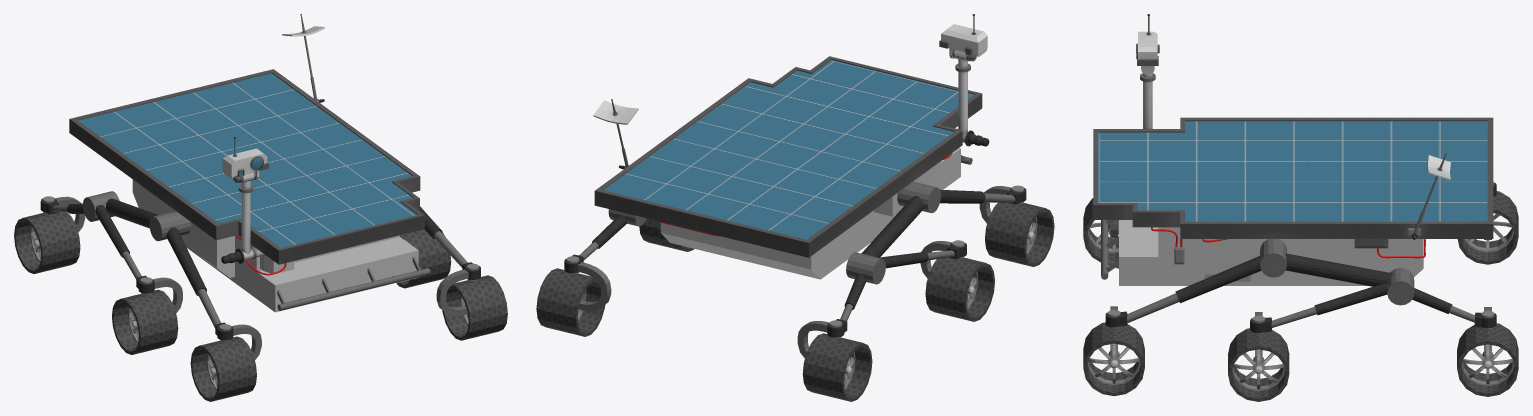
File: mars_rover_low_poly_rover.glb
3 views of the same model, side by side, from view 1: azimuth 30°, elevation 25°; view 2: azimuth 150°, elevation 25°; view 3: azimuth 270°, elevation 25° (orthographic). The views are drawn at different scales.
Visible parts, largest first — view 1: Cube.007, Cube.006, Cylinder.021, Cylinder.022, Cylinder.023, Cylinder.012, Cylinder.007, Cylinder.011, Cube.008, Cylinder.029, Cylinder.024, Cylinder.014 (+5 smaller); view 2: Cube.007, Cube.006, Cylinder.023, Cylinder.021, Cylinder.022, Cylinder.020, Cube.010, Cylinder.013, Cylinder.008, Cylinder.017, Cube.015, Cylinder.007 (+6 smaller); view 3: Cube.007, Cube.006, Cylinder.012, Cylinder.011, Cylinder.020, Cylinder.023, Cylinder.007, Cylinder.008, Cylinder.014, Cylinder.021, Cylinder.006, Cylinder.013 (+5 smaller).
Part boxes in pixels (x1,y1,x2,y2): Cube.007: (69,69,424,264); Cube.006: (132,179,418,312); Cylinder.021: (190,336,256,401); Cylinder.022: (112,289,178,354); Cylinder.023: (14,212,80,273); Cylinder.012: (442,275,507,340); Cylinder.007: (166,206,467,328); Cylinder.011: (396,229,451,288); Cube.008: (232,269,468,359); Cylinder.029: (277,268,430,310); Cylinder.024: (149,211,191,241); Cylinder.014: (95,205,141,279); Cube.007: (594,56,982,257); Cube.006: (660,148,960,279); Cylinder.023: (802,333,872,401); Cylinder.021: (985,202,1054,266); Cylinder.022: (925,257,994,321); Cylinder.020: (536,268,605,336); Cube.010: (577,262,828,358); Cylinder.013: (608,209,885,284); Cylinder.008: (861,196,923,257); Cylinder.017: (579,216,866,320); Cube.015: (941,24,987,56); Cylinder.007: (940,189,1015,203); Cube.007: (1093,117,1493,238); Cube.006: (1119,220,1423,285); Cylinder.012: (1083,322,1144,395); Cylinder.011: (1228,328,1289,401); Cylinder.020: (1457,323,1518,396); Cylinder.023: (1457,191,1518,264); Cylinder.007: (1127,255,1261,323); Cylinder.008: (1285,253,1392,286); Cylinder.014: (1271,282,1389,327); Cylinder.021: (1083,198,1118,262); Cylinder.006: (1260,239,1286,277); Cylinder.013: (1387,267,1414,305).
Bounding box in the file's own units: 0.1547 × 0.114 × 0.1759.
Materials: 1 (1 with a texture image).
